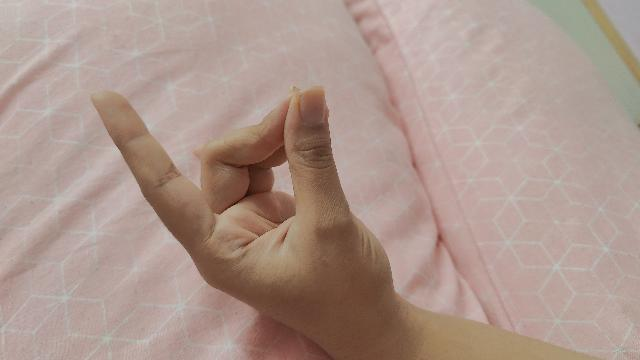sinhamukh: (91, 88, 603, 360)
